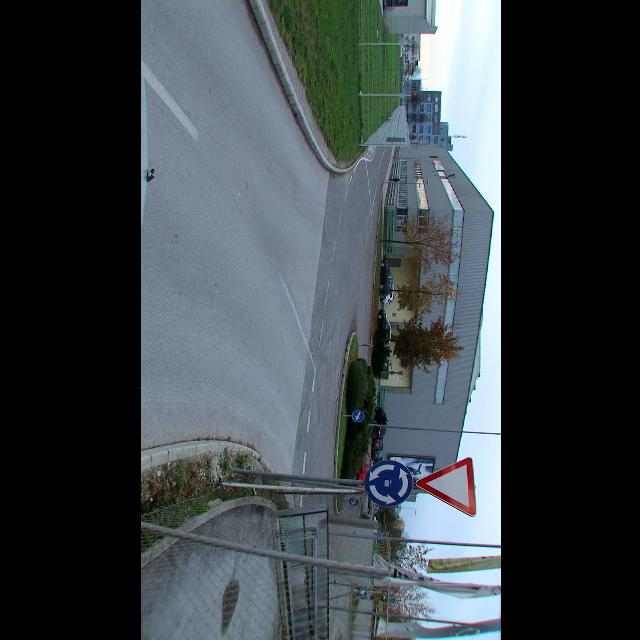Round: (362, 460, 412, 508), (351, 411, 364, 422), (347, 497, 359, 508)
Triangle: (416, 458, 476, 518)
